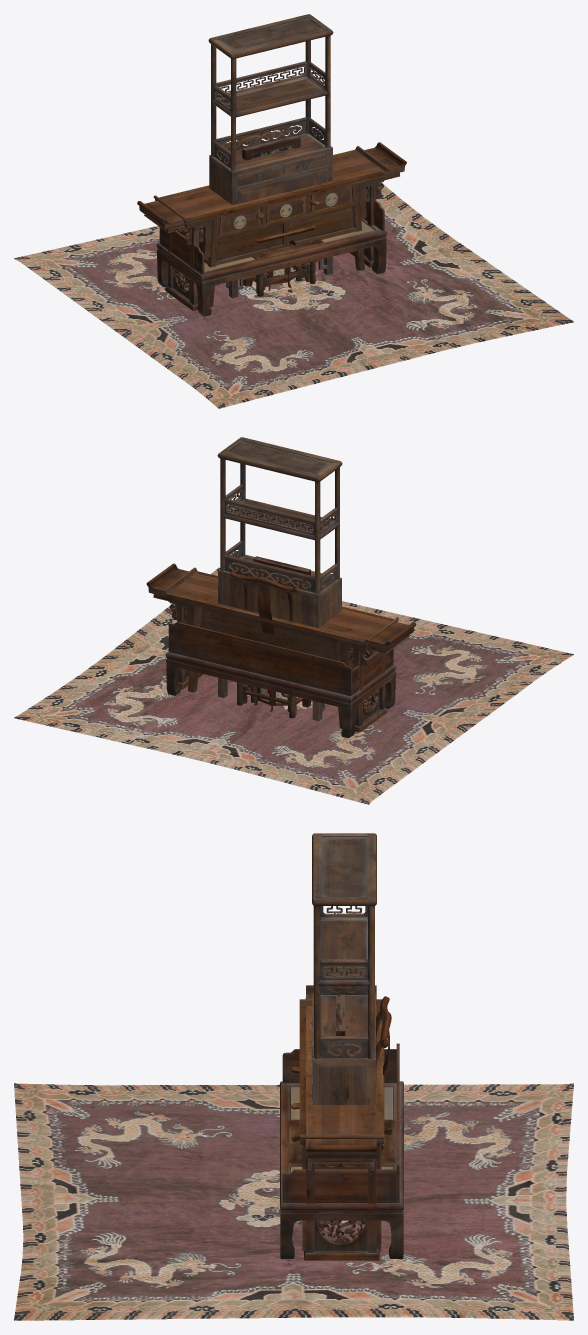
The model's file is funiture2.glb.
3 views of the same model, one above another, from view 1: azimuth 30°, elevation 25°; view 2: azimuth 150°, elevation 25°; view 3: azimuth 270°, elevation 25° (orthographic). The views are drawn at different scales.
Visible parts, largest first — view 1: 1.016, 1.001, 1.005, 1.017, 1.014, 1.013, 1.019, 1.018; view 2: 1.016, 1.001, 1.014, 1.005, 1.017, 1.013, 1.019; view 3: 1.016, 1.001, 1.014, 1.017, 1.005, 1.018, 1.013.
Part boxes in pixels (box(x1,y1,x2,y2)): 1.016: box(14, 184, 573, 408); 1.001: box(208, 14, 333, 298); 1.005: box(153, 146, 389, 307); 1.017: box(137, 142, 406, 310); 1.014: box(156, 200, 386, 316); 1.013: box(222, 127, 319, 293); 1.019: box(242, 135, 300, 286); 1.018: box(252, 239, 324, 296); 1.016: box(14, 567, 573, 804); 1.001: box(217, 437, 342, 721); 1.014: box(165, 622, 396, 738); 1.005: box(163, 567, 399, 728); 1.017: box(146, 563, 416, 732); 1.013: box(230, 571, 303, 715); 1.019: box(253, 556, 310, 707); 1.016: box(14, 1083, 573, 1320); 1.001: box(310, 833, 376, 1232); 1.014: box(280, 1043, 403, 1258); 1.017: box(304, 985, 379, 1260); 1.005: box(299, 999, 384, 1251); 1.018: box(288, 1119, 395, 1166); 1.013: box(290, 996, 391, 1144).
Size of the model in its own units: 4.38 by 2.87 by 4.38.
12 materials, 12 textured.
